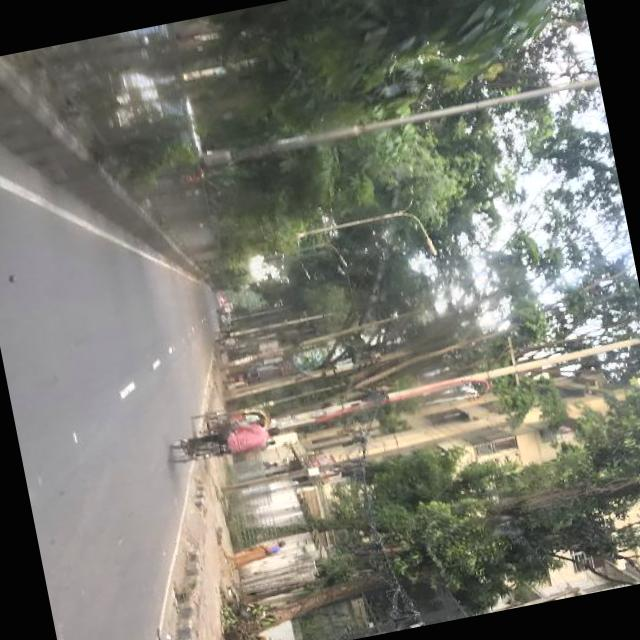motorcycle: (188, 400, 272, 436)
